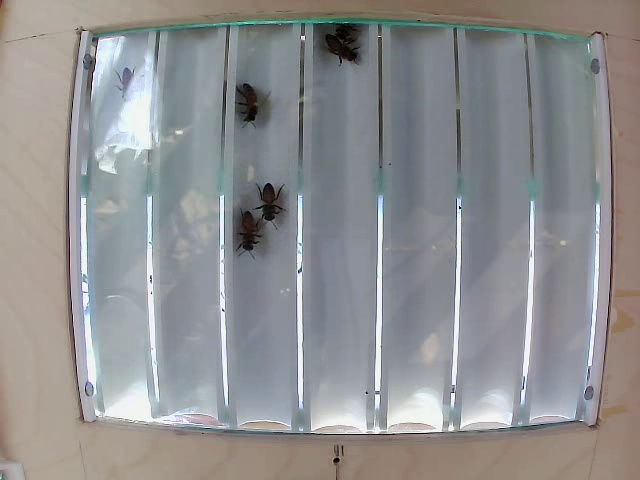bee: (230, 76, 276, 138), (228, 209, 268, 260), (252, 178, 289, 228), (114, 65, 148, 108), (320, 43, 364, 73)
